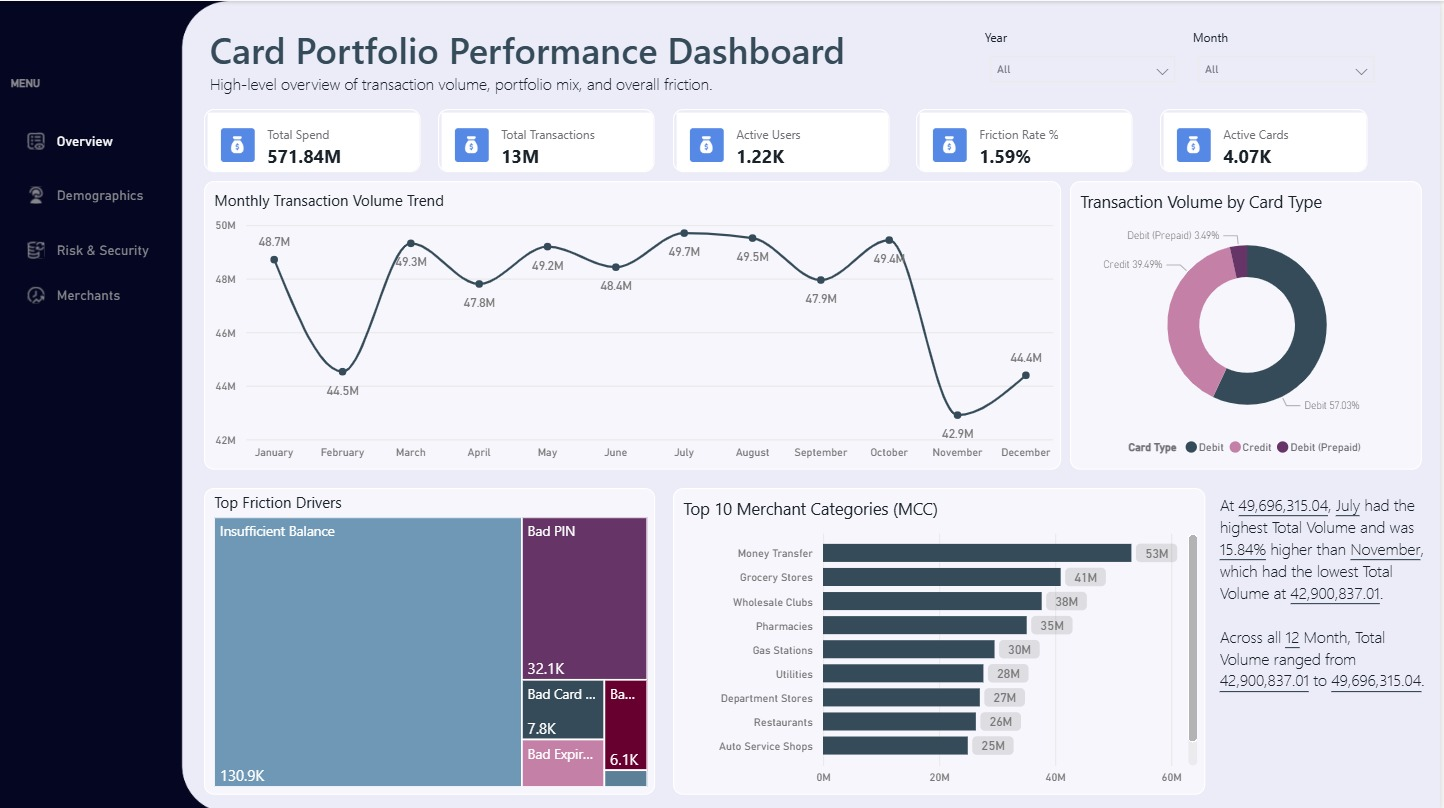

The page's visual inventory and layout, read from the dashboard file:
{"tool":"powerbi","page":{"name":"Executive Overview","canvas":[1280,720],"ordinal":0},"visuals":[{"type":"image","box":[0,0,208,720],"z":0},{"type":"textbox","box":[184,16,632,80],"z":1000},{"type":"actionButton","box":[24,104,144,40],"z":2000},{"type":"actionButton","box":[16,152,144,40],"z":3000},{"type":"actionButton","box":[16,240,144,40],"z":4000},{"type":"actionButton","box":[16,200,144,40],"z":5000},{"type":"textbox","box":[8,56,144,40],"z":6000},{"type":"slicer","title":"Month","fields":{"Values":["clean_credit_behavior.month"]},"box":[1056,24,176,56],"z":7000},{"type":"slicer","title":"Year","fields":{"Values":["clean_credit_behavior.year"]},"box":[872,24,184,56],"z":8000},{"type":"cardVisual","fields":{"Data":["_Key Measures.Total Volume"]},"box":[184,96,192,56],"z":9000},{"type":"cardVisual","fields":{"Data":["_Key Measures.Total Trx"]},"box":[392,96,192,56],"z":10000},{"type":"cardVisual","fields":{"Data":["_Key Measures.Friction Rate %"]},"box":[816,96,192,56],"z":11000},{"type":"cardVisual","fields":{"Data":["_Key Measures.Active Clients"]},"box":[600,96,192,56],"z":12000},{"type":"lineChart","title":"Monthly Transaction Volume Trend","fields":{"Category":["clean_credit_behavior.date.Variation.Date Hierarchy.Month","clean_credit_behavior.date.Variation.Date Hierarchy.Day"],"Y":["_Key Measures.Total Volume"]},"box":[184,160,760,256],"z":13000},{"type":"donutChart","title":"Transaction Volume by Card Type","fields":{"Category":["clean_credit_behavior.card_type"],"Y":["_Key Measures.Total Volume"]},"box":[952,160,312,256],"z":14000},{"type":"barChart","title":"Top 10 Merchant Categories (MCC)","fields":{"Y":["_Key Measures.Total Volume"],"Category":["clean_credit_behavior.Merchant Category"]},"box":[600,432,472,272],"z":15000},{"type":"treemap","title":"Top Friction Drivers","fields":{"Values":["_Key Measures.Total Trx"],"Group":["clean_credit_behavior.errors"]},"box":[184,432,400,272],"z":16000},{"type":"cardVisual","fields":{"Data":["_Key Measures.Active Cards"]},"box":[1032,96,184,56],"z":17000},{"type":"textbox","box":[1080,432,192,272],"z":18000}]}

Visuals, with their boxes on the page's 1280x720 design canvas (x1, y1, x2, y2). These are canvas units, not pixel positions in the 1444x808 screenshot, which may show the page scaled, cropped or inside an application window:
image: pyautogui.locateOnScreen(0, 0, 208, 720)
textbox: pyautogui.locateOnScreen(184, 16, 816, 96)
actionButton: pyautogui.locateOnScreen(24, 104, 168, 144)
actionButton: pyautogui.locateOnScreen(16, 152, 160, 192)
actionButton: pyautogui.locateOnScreen(16, 240, 160, 280)
actionButton: pyautogui.locateOnScreen(16, 200, 160, 240)
textbox: pyautogui.locateOnScreen(8, 56, 152, 96)
"Month" slicer: pyautogui.locateOnScreen(1056, 24, 1232, 80)
"Year" slicer: pyautogui.locateOnScreen(872, 24, 1056, 80)
cardVisual - _Key Measures.Total Volume: pyautogui.locateOnScreen(184, 96, 376, 152)
cardVisual - _Key Measures.Total Trx: pyautogui.locateOnScreen(392, 96, 584, 152)
cardVisual - _Key Measures.Friction Rate %: pyautogui.locateOnScreen(816, 96, 1008, 152)
cardVisual - _Key Measures.Active Clients: pyautogui.locateOnScreen(600, 96, 792, 152)
"Monthly Transaction Volume Trend" lineChart: pyautogui.locateOnScreen(184, 160, 944, 416)
"Transaction Volume by Card Type" donutChart: pyautogui.locateOnScreen(952, 160, 1264, 416)
"Top 10 Merchant Categories (MCC)" barChart: pyautogui.locateOnScreen(600, 432, 1072, 704)
"Top Friction Drivers" treemap: pyautogui.locateOnScreen(184, 432, 584, 704)
cardVisual - _Key Measures.Active Cards: pyautogui.locateOnScreen(1032, 96, 1216, 152)
textbox: pyautogui.locateOnScreen(1080, 432, 1272, 704)
